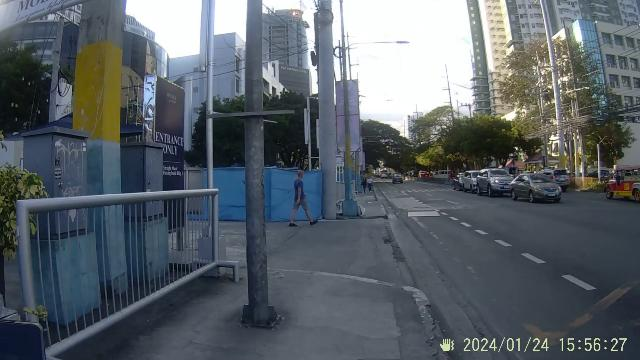utility_post: (236, 0, 283, 332), (438, 59, 454, 121)
